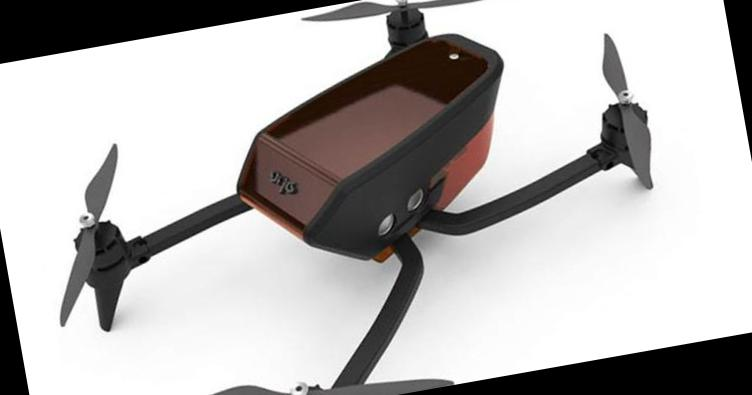drone: (7, 0, 727, 395)
